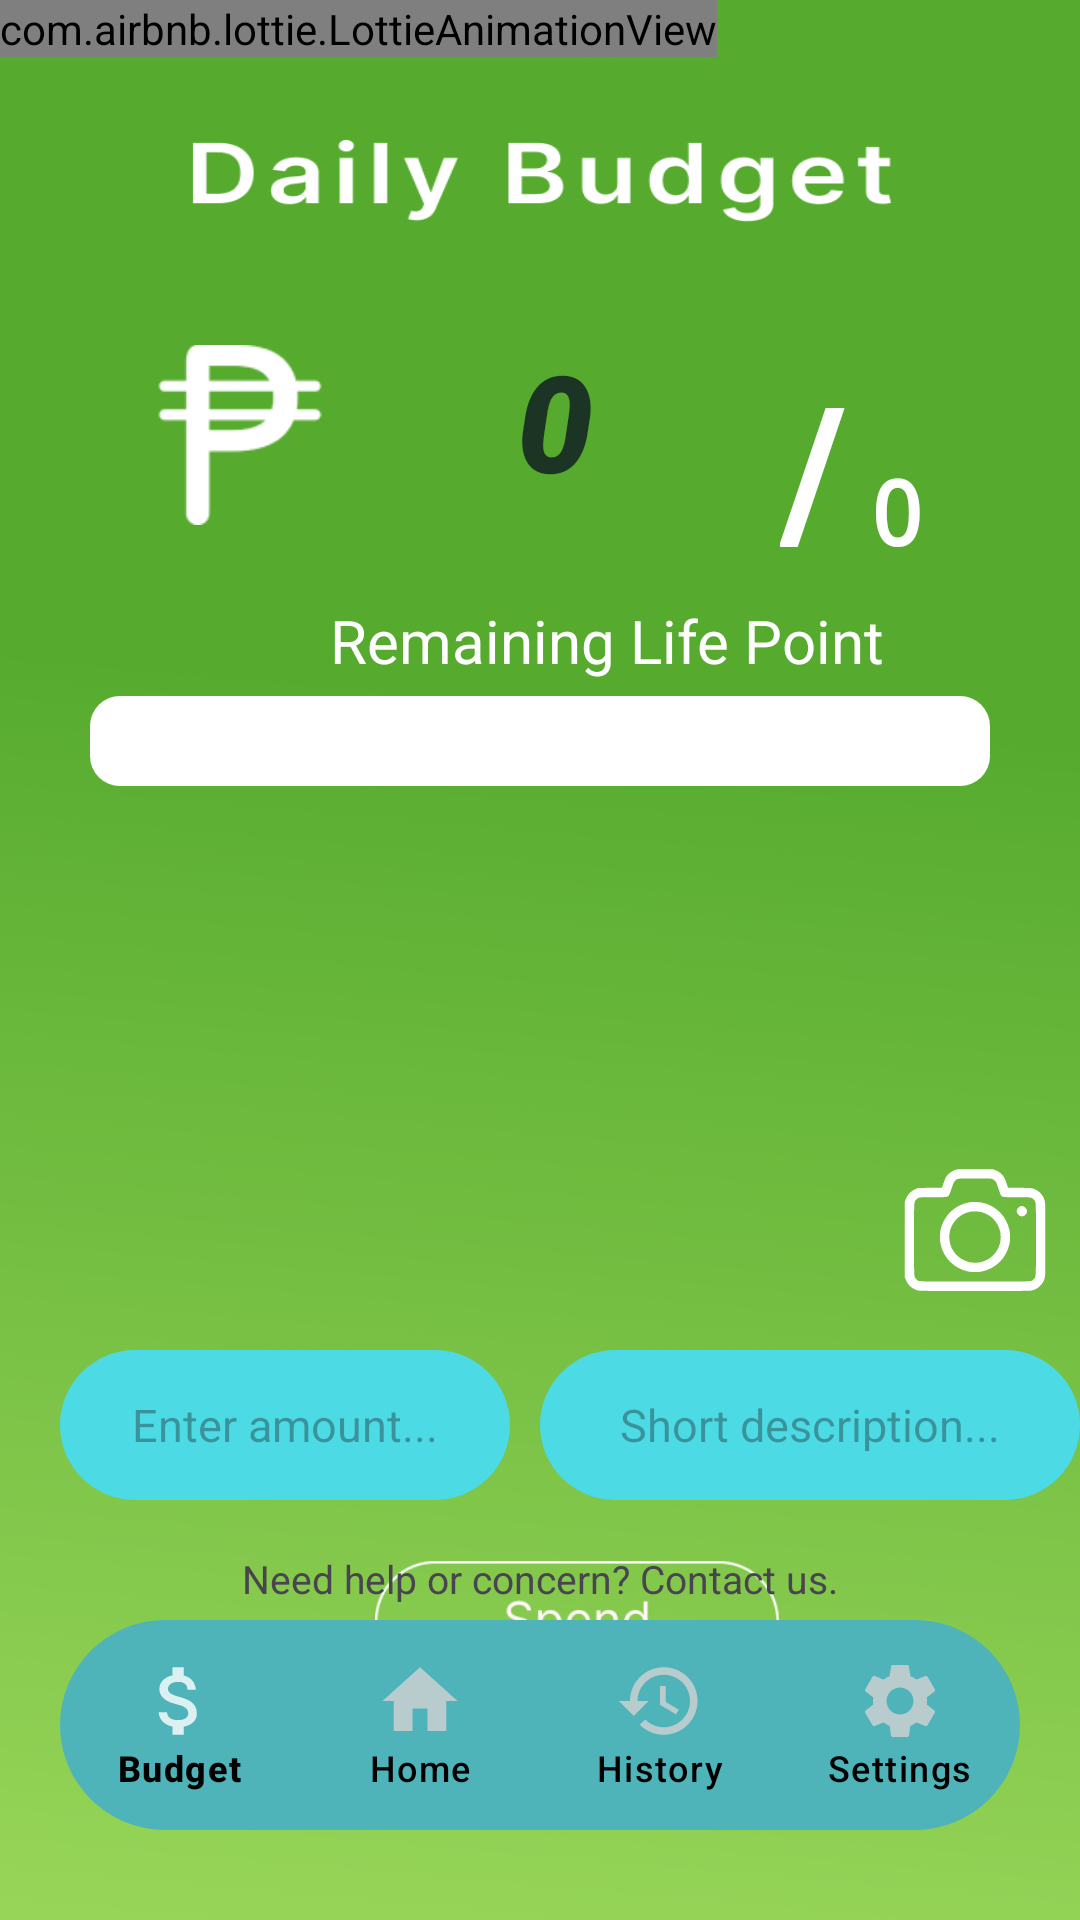

Where icons sit on this 1080px x 1920px app screen, as (x1, y1, x2, y2):
pesosign: (158, 345, 322, 525)
photo camera: (904, 1169, 1046, 1291)
